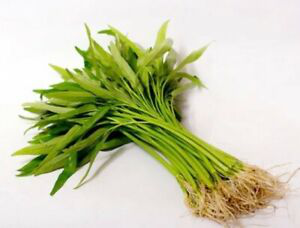Kangkung: (38, 27, 268, 200)
